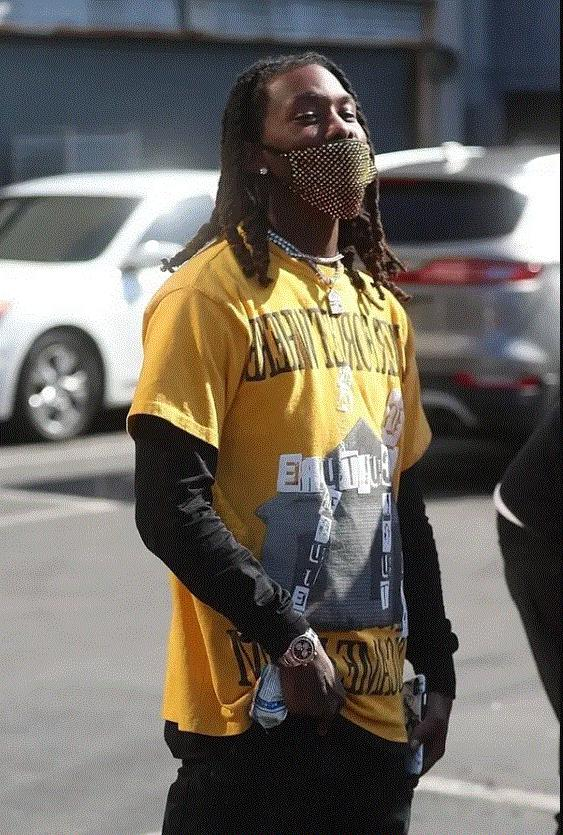mask_weared_incorrect: (272, 88, 379, 179)
